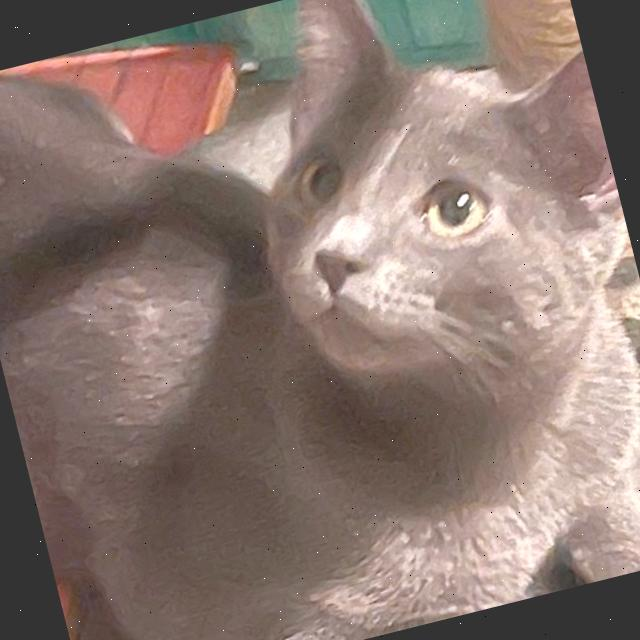russian_blue_cat: (195, 0, 640, 455)
